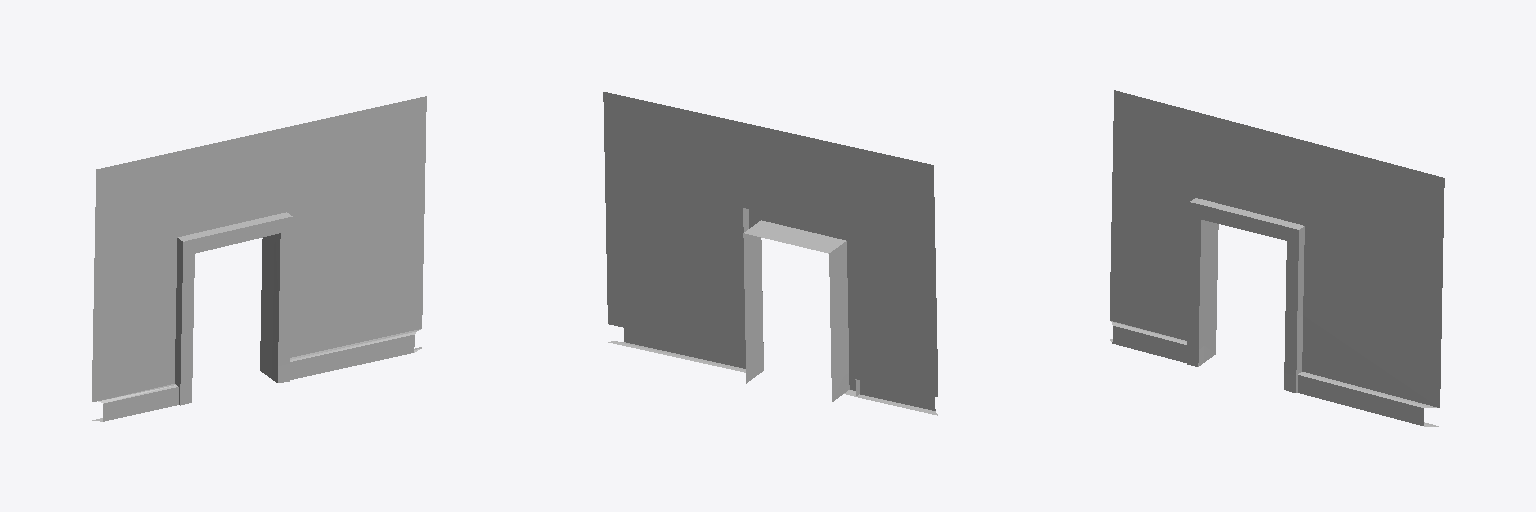
Rendered from ArtGallery_BackWall.obj.
3 renders of one model, left to right at view 1: azimuth 30°, elevation 25°; view 2: azimuth 150°, elevation 25°; view 3: azimuth 330°, elevation 25°, orthographic.
Visible parts, largest first — view 1: MuseumGalleryMesh3; view 2: MuseumGalleryMesh3; view 3: MuseumGalleryMesh3.
Boxes of the visible parts, <box> form: MuseumGalleryMesh3: <box>92,96,426,421</box>; MuseumGalleryMesh3: <box>603,92,937,415</box>; MuseumGalleryMesh3: <box>1110,90,1444,426</box>.
Size of the model in its own units: 117 by 85.55 by 10.71.